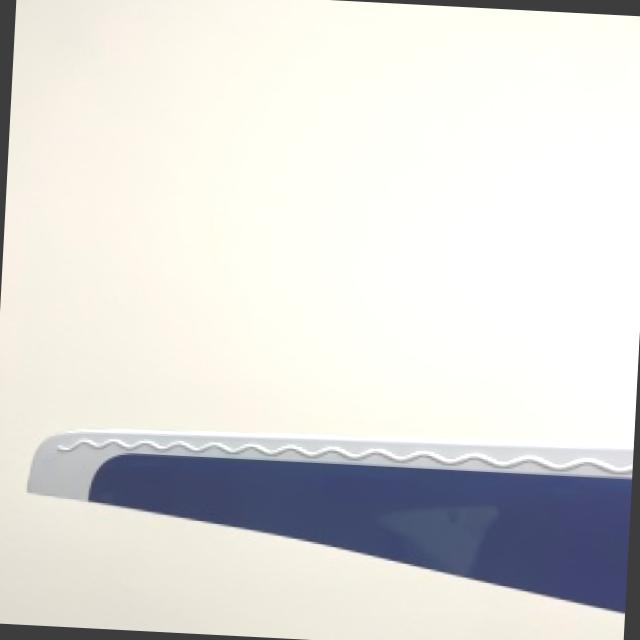healthy: (27, 428, 632, 611)
